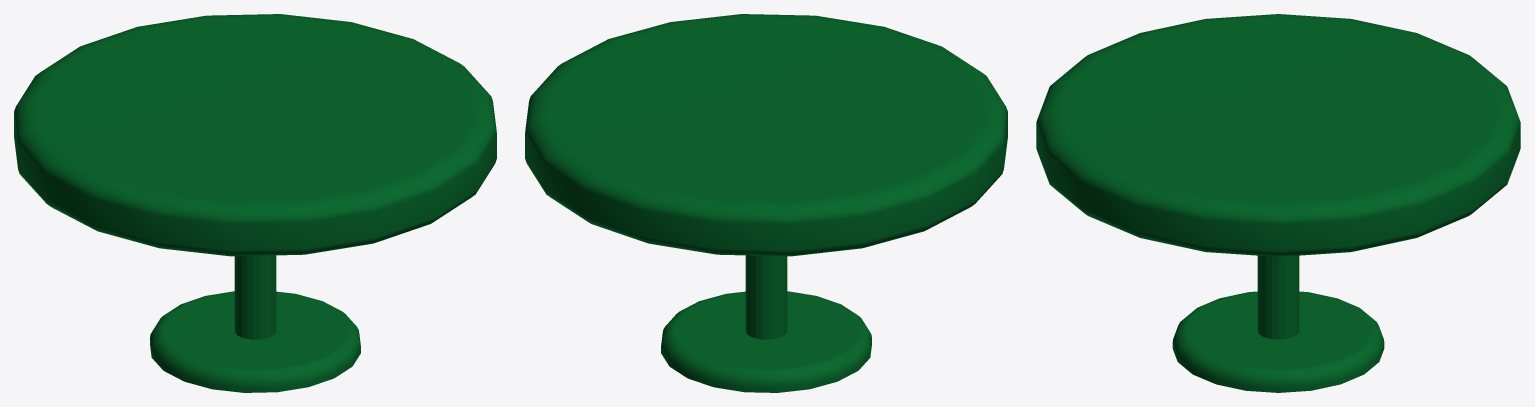
The model's file is Table.fbx.
3 views of the same model, side by side, from view 1: azimuth 30°, elevation 25°; view 2: azimuth 150°, elevation 25°; view 3: azimuth 270°, elevation 25° (orthographic).
Parts seen in each view (by area): view 1: pCylinder19, pCylinder21; view 2: pCylinder19, pCylinder21; view 3: pCylinder19, pCylinder21.
Part boxes in pixels (x1,y1,x2,y2): pCylinder19: (14,14,496,256); pCylinder21: (150,255,360,392); pCylinder19: (525,14,1007,256); pCylinder21: (661,255,871,392); pCylinder19: (1036,14,1520,256); pCylinder21: (1172,255,1384,392).
Bounding box in the file's own units: 25.6 × 13.9 × 25.6.
